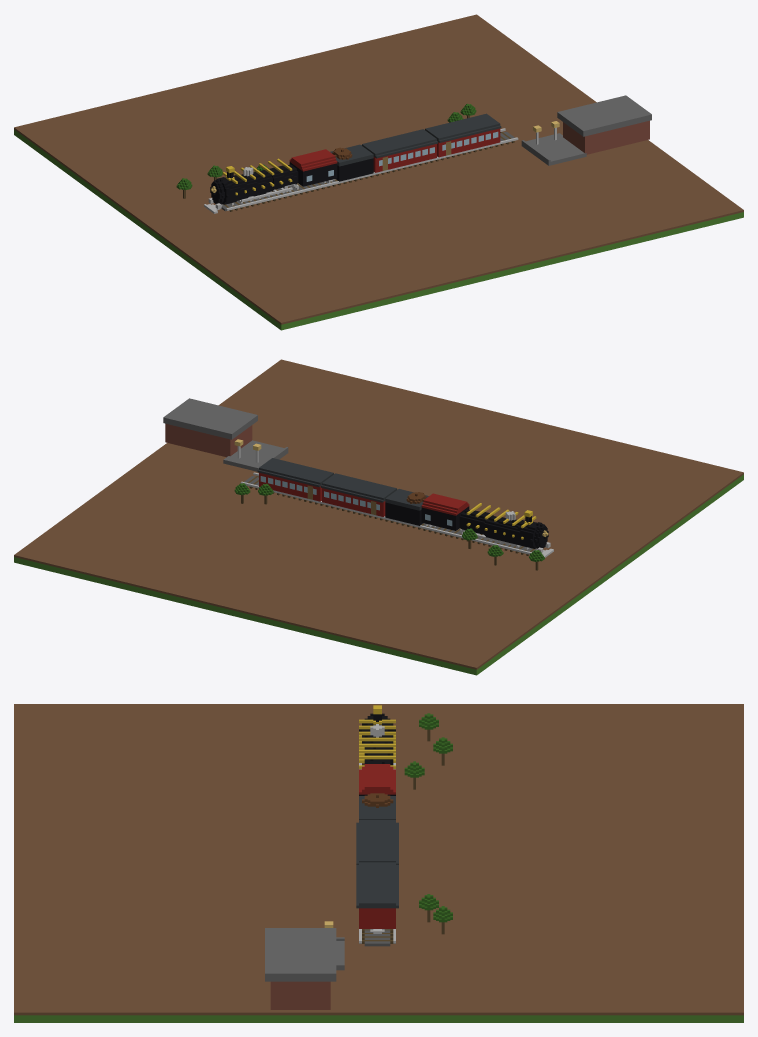
The picture shows the model from 3 angles, top to bottom: view 1: azimuth 30°, elevation 25°; view 2: azimuth 150°, elevation 25°; view 3: azimuth 270°, elevation 25°; orthographic projection. The views are drawn at different scales.
Size of the model in its own units: 256 by 24 by 256.
